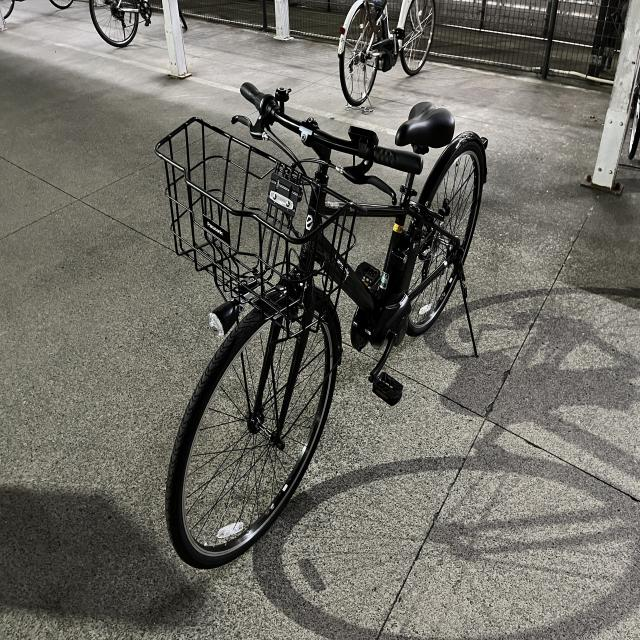basket: (150, 112, 365, 340)
battery: (388, 228, 414, 302)
